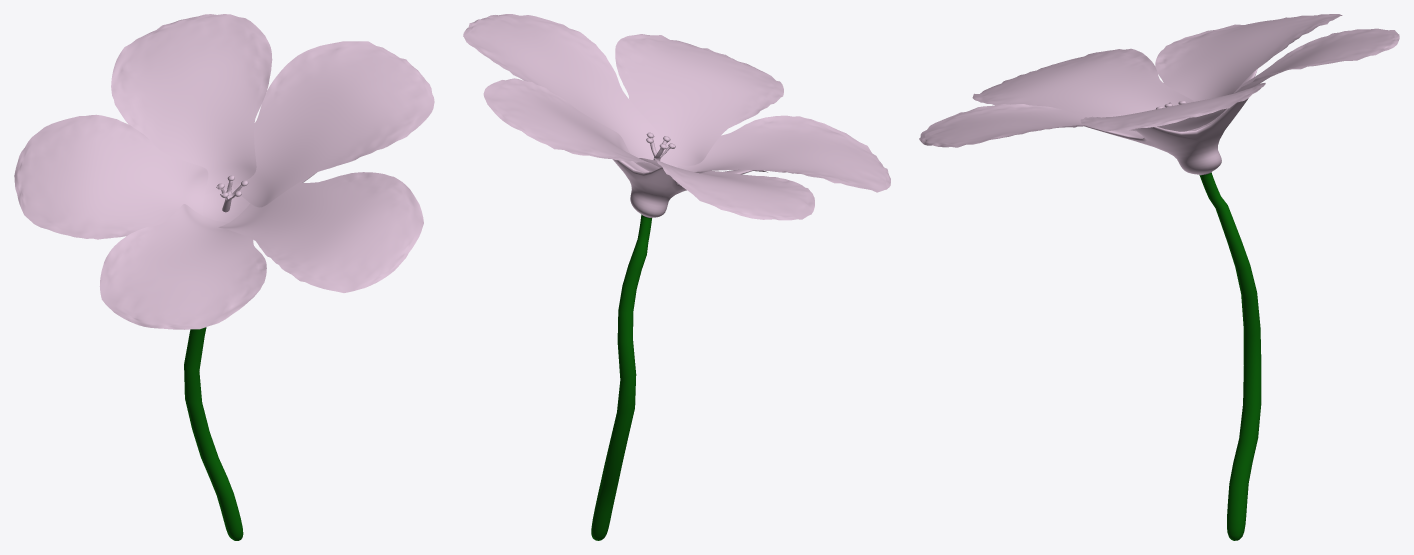
The model's file is flower.glb.
3 renders of one model, left to right at view 1: azimuth 30°, elevation 25°; view 2: azimuth 150°, elevation 25°; view 3: azimuth 270°, elevation 25°, orthographic. The views are drawn at different scales.
Parts seen in each view (by area): view 1: modeloconcolor; view 2: modeloconcolor; view 3: modeloconcolor.
Boxes of the visible parts, <box> form: modeloconcolor: <box>14,14,434,540</box>; modeloconcolor: <box>463,14,890,540</box>; modeloconcolor: <box>919,14,1399,540</box>.
Bounding box in the file's own units: 13.13 × 16.42 × 13.97.
